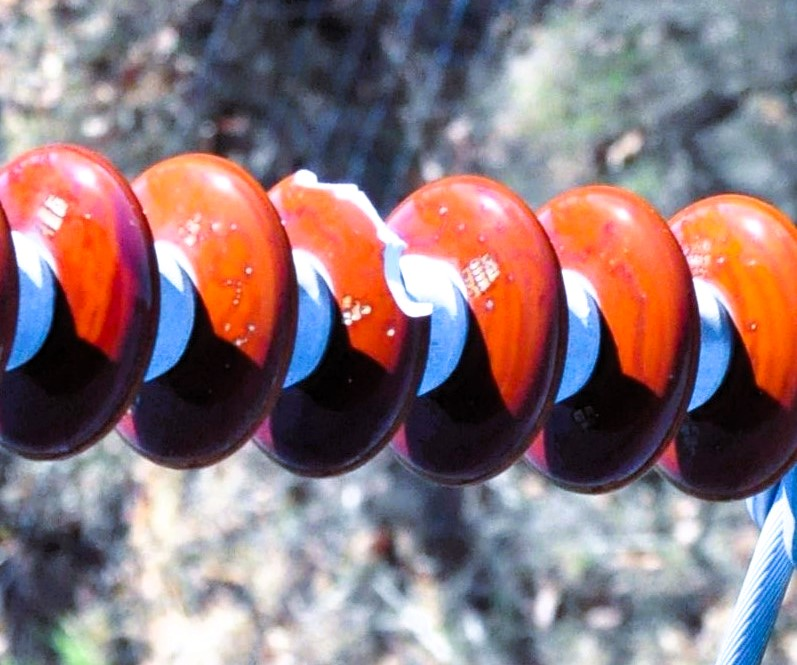insulator breakage: (249, 152, 435, 486)
